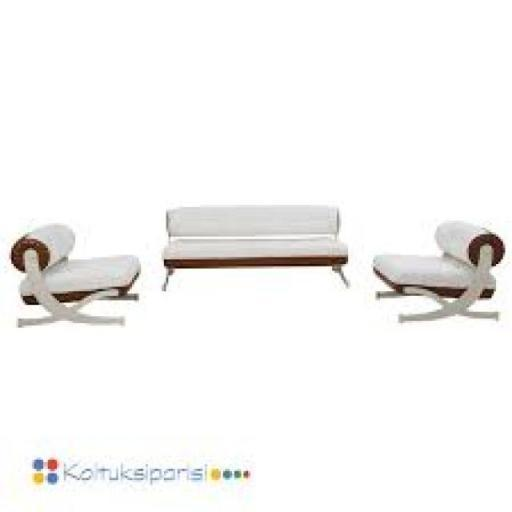sofa: (0, 188, 512, 394)
